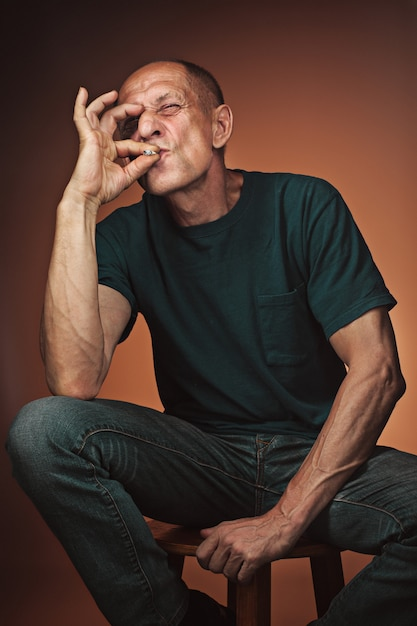cigarette: (140, 144, 163, 161)
